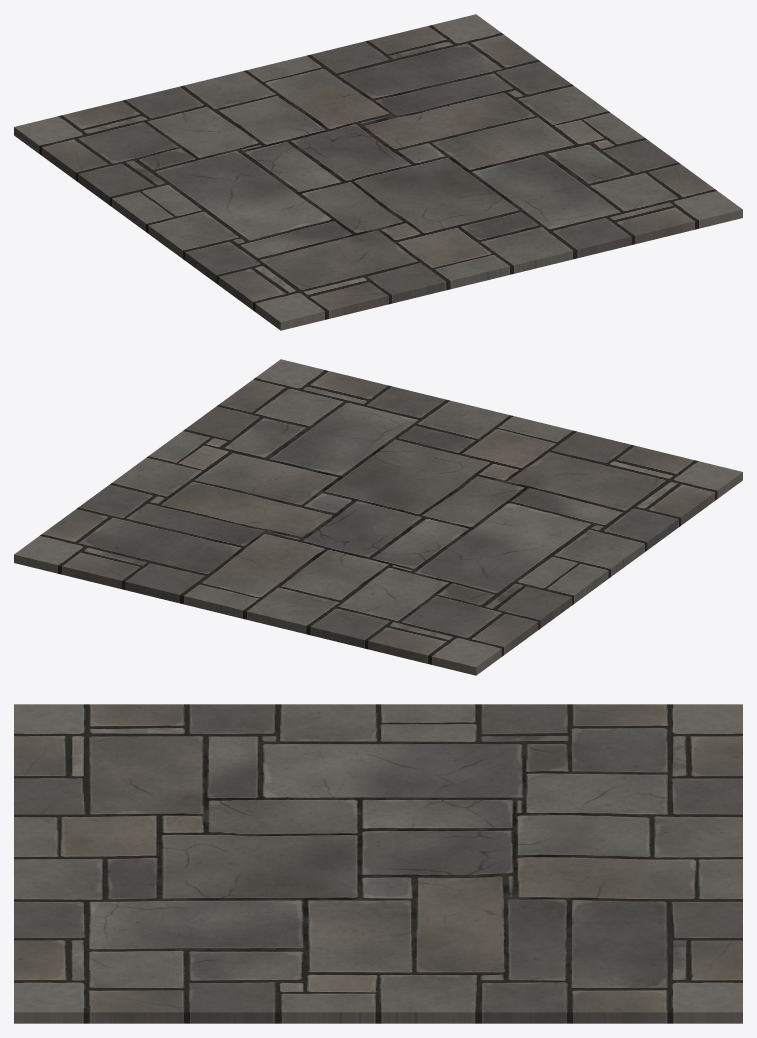
Rendered from floor_a.glb.
3 views of the same model, one above another, from view 1: azimuth 30°, elevation 25°; view 2: azimuth 150°, elevation 25°; view 3: azimuth 270°, elevation 25° (orthographic). The views are drawn at different scales.
Parts seen in each view (by area): view 1: floor_a; view 2: floor_a; view 3: floor_a.
Boxes of the visible parts, <box> form: floor_a: <box>14,14,742,330</box>; floor_a: <box>14,359,742,675</box>; floor_a: <box>14,704,742,1023</box>.
Size of the model in its own units: 4 by 0.0861 by 4.
Materials: 1 (1 with a texture image).
